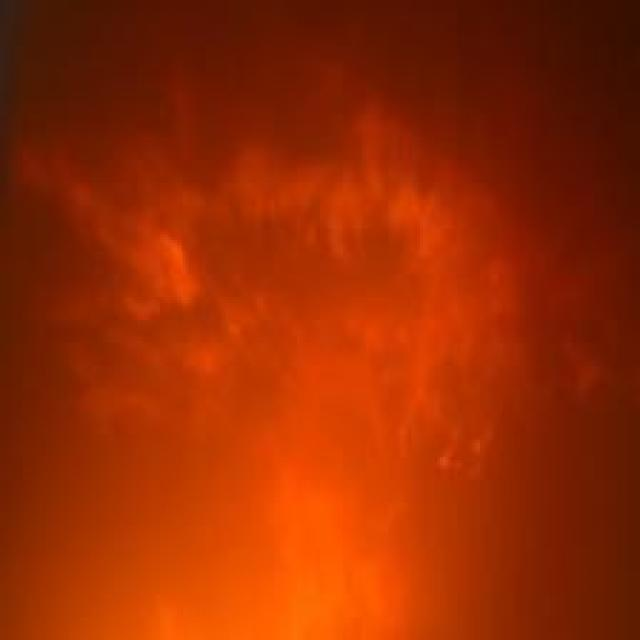fire: (10, 88, 613, 631)
